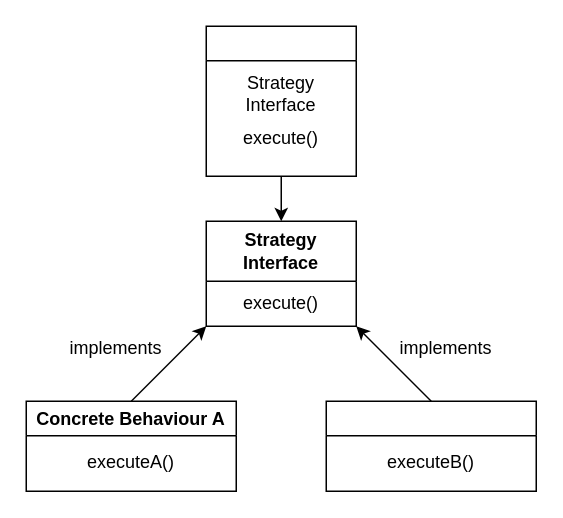
This 563x518 diagram has some shape labels left out. The shapes that lost their labels are listed below. From the top down, each one's box as (x1, y1, x2, y2) in pixels, then its label:
(205, 25, 356, 176): Client
(325, 400, 536, 491): Concrete Behaviour B
